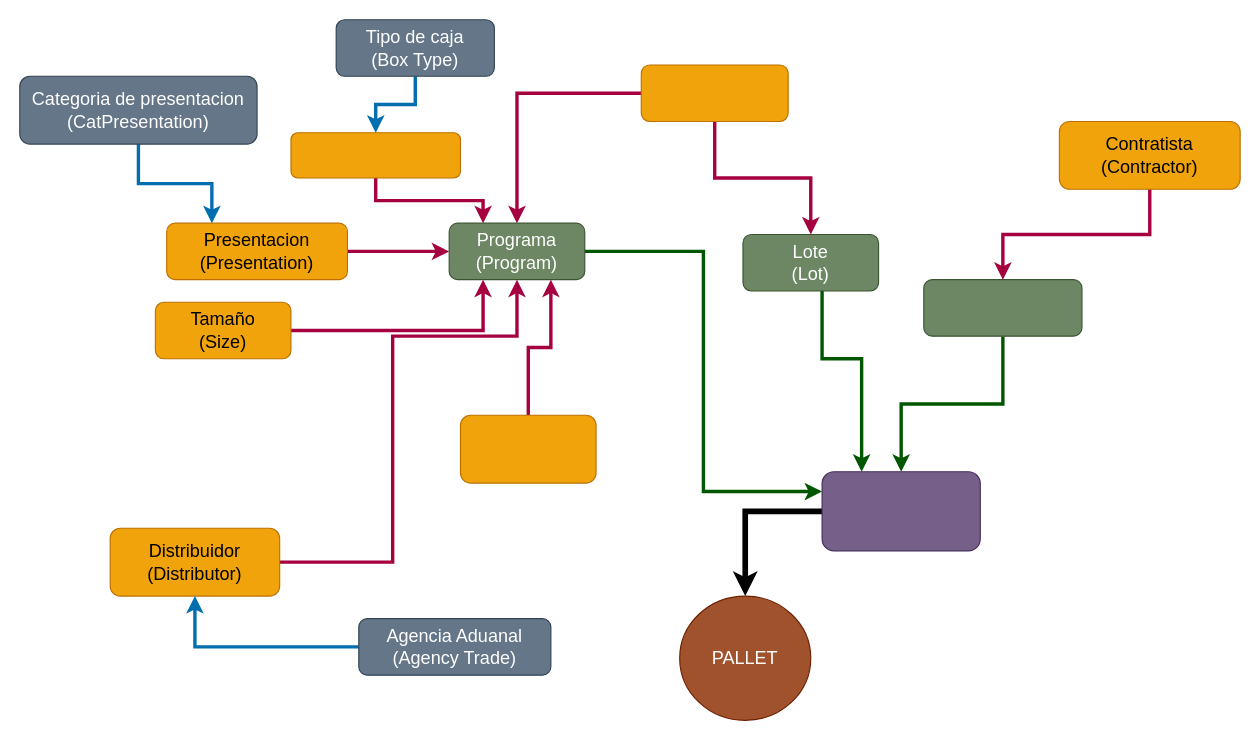
Image size: 1260x740. Some labels were removed from this diagram. The box of each missing label's shape, as (x1, y1, x2, y2) in pixels:
Caja (Box): (290, 132, 460, 178)
Cuadrilla (WorkGroup): (923, 279, 1082, 336)
Plan de trabajo (WorkPlan): (821, 471, 980, 551)
Tipo Pallet (Pallet Type): (459, 414, 596, 483)
Variedad (Variety): (640, 64, 788, 121)
